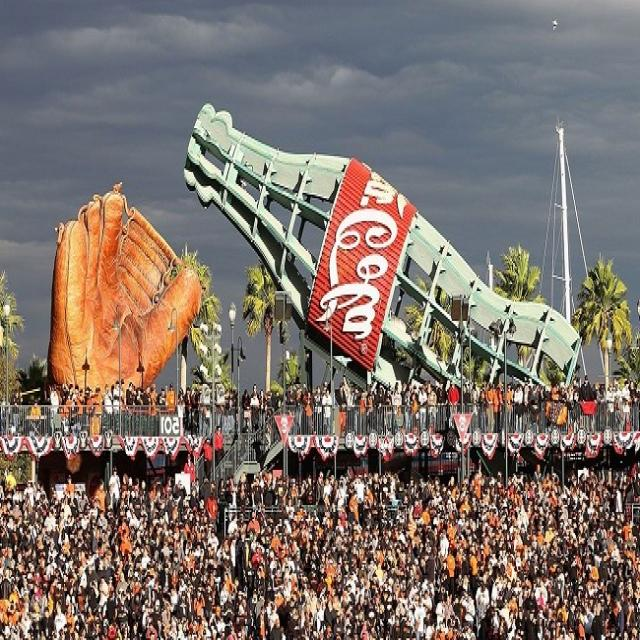coca cola: (314, 168, 404, 345)
